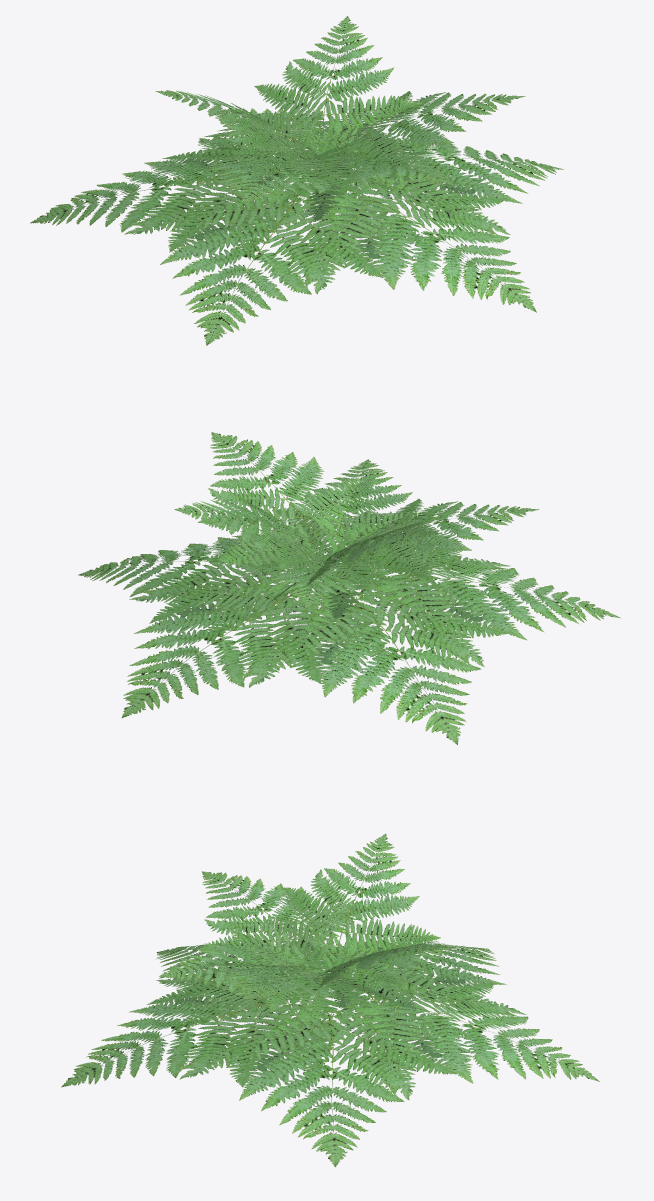
Rendered from Bush2.FBX.
The picture shows the model from 3 angles, top to bottom: view 1: azimuth 30°, elevation 25°; view 2: azimuth 150°, elevation 25°; view 3: azimuth 270°, elevation 25°; orthographic projection. The views are drawn at different scales.
Visible parts, largest first — view 1: Plane021, Plane022, Plane020, Plane025, Plane024, Plane018, Plane028, Plane023, Plane027, Plane019, Plane026; view 2: Plane020, Plane019, Plane021, Plane024, Plane018, Plane028, Plane023, Plane025, Plane026, Plane022, Plane027; view 3: Plane018, Plane019, Plane022, Plane027, Plane028, Plane023, Plane020, Plane024, Plane021, Plane026, Plane025.
Boxes of the visible parts, left/top/right/bottom form: Plane021: left=131, top=158, right=422, bottom=345; Plane022: left=195, top=165, right=536, bottom=312; Plane020: left=30, top=131, right=361, bottom=252; Plane025: left=240, top=16, right=423, bottom=180; Plane024: left=309, top=91, right=525, bottom=220; Plane018: left=290, top=126, right=563, bottom=258; Plane028: left=185, top=148, right=393, bottom=203; Plane023: left=244, top=147, right=455, bottom=189; Plane027: left=155, top=90, right=318, bottom=171; Plane019: left=162, top=113, right=474, bottom=194; Plane026: left=215, top=108, right=372, bottom=174; Plane020: left=180, top=576, right=508, bottom=744; Plane019: left=121, top=541, right=388, bottom=718; Plane021: left=316, top=539, right=620, bottom=664; Plane024: left=197, top=432, right=433, bottom=566; Plane018: left=78, top=524, right=432, bottom=634; Plane028: left=327, top=498, right=538, bottom=618; Plane023: left=255, top=459, right=438, bottom=575; Plane025: left=174, top=495, right=333, bottom=590; Plane026: left=250, top=551, right=392, bottom=608; Plane022: left=204, top=513, right=506, bottom=621; Plane027: left=265, top=515, right=441, bottom=605; Plane018: left=175, top=993, right=468, bottom=1167; Plane019: left=257, top=962, right=599, bottom=1094; Plane022: left=61, top=948, right=334, bottom=1087; Plane027: left=259, top=833, right=440, bottom=1010; Plane028: left=198, top=871, right=421, bottom=985; Plane023: left=159, top=930, right=329, bottom=1018; Plane020: left=257, top=941, right=516, bottom=1057; Plane024: left=208, top=963, right=400, bottom=1004; Plane021: left=146, top=941, right=465, bottom=1025; Plane026: left=327, top=942, right=458, bottom=1007; Plane025: left=261, top=941, right=453, bottom=1011.
Size of the model in its own units: 346 by 108 by 362.
Materials: 1 (1 with a texture image).
